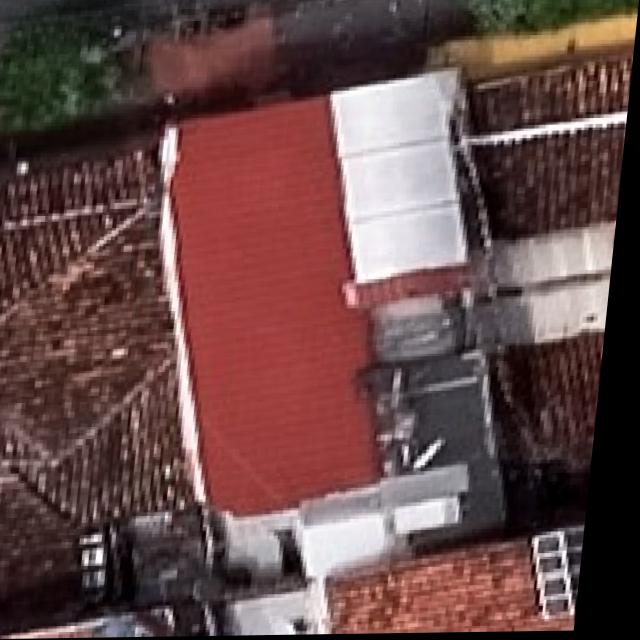Batiment: (0, 139, 210, 612), (177, 98, 391, 517), (470, 59, 633, 533), (340, 540, 587, 635)
